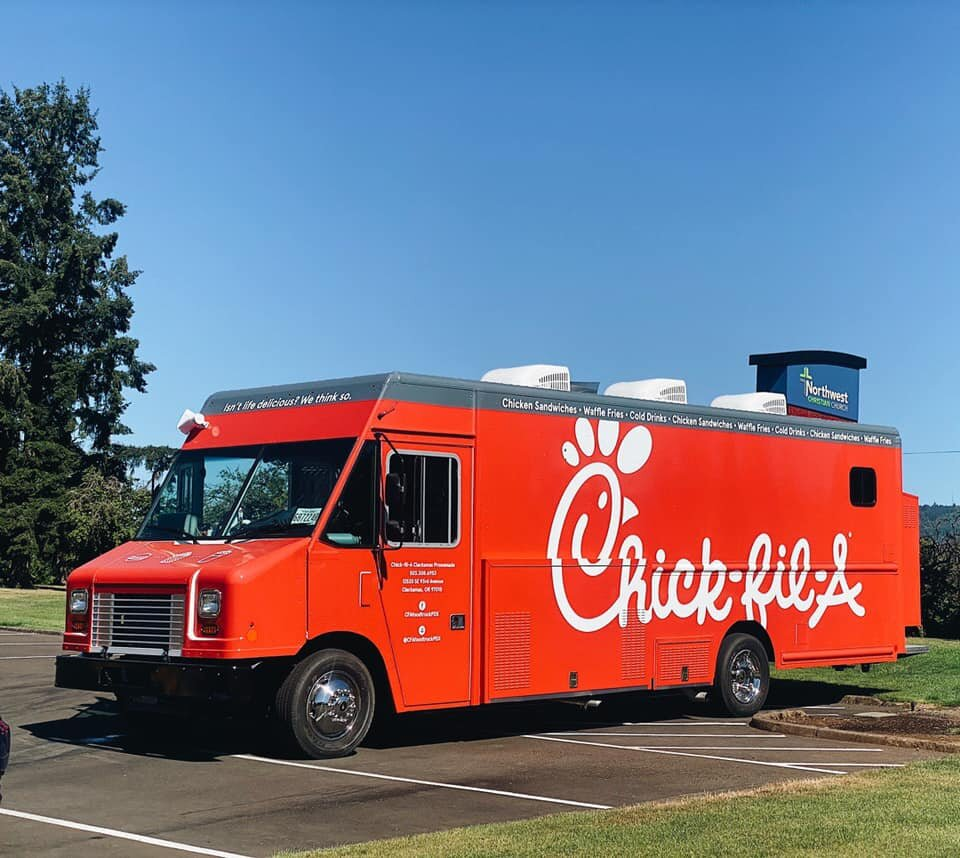truck: (56, 363, 922, 758)
